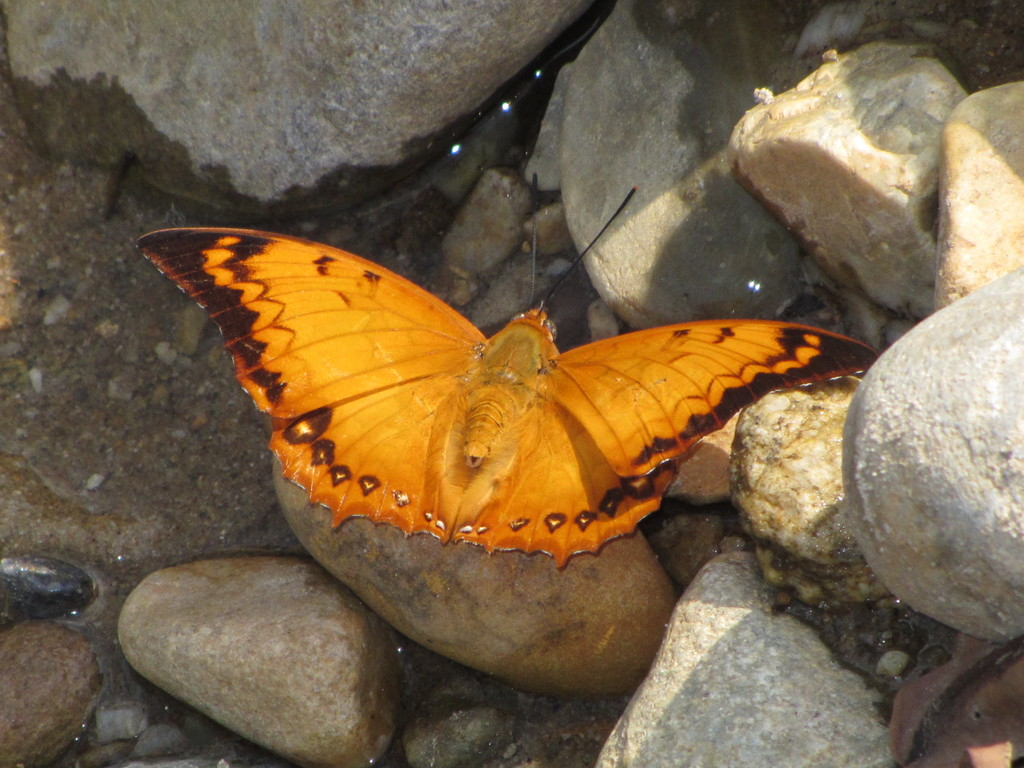Butterfly: (136, 207, 870, 579)
